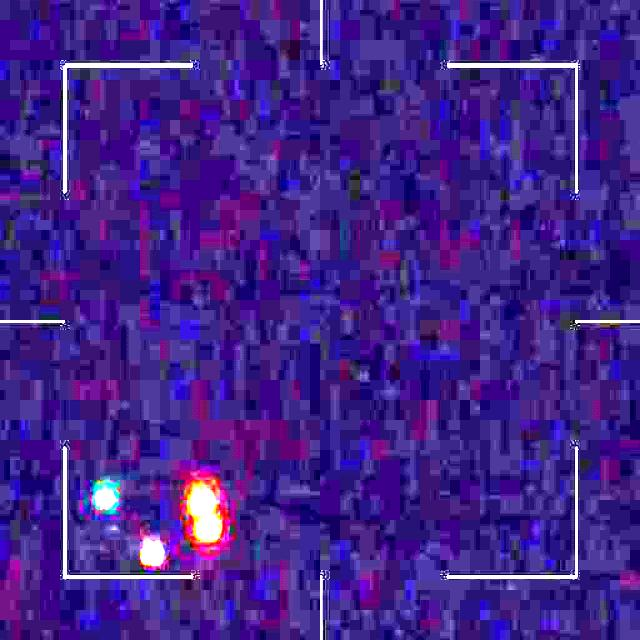bird: (95, 480, 222, 568)
